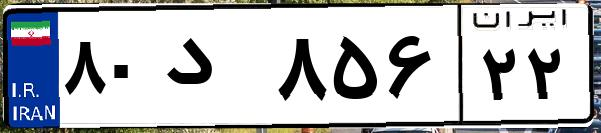0: (110, 28, 158, 98)
2: (475, 38, 525, 113), (525, 38, 570, 115)
5: (330, 28, 385, 110)
6: (385, 28, 445, 110)
8: (270, 28, 330, 110), (57, 26, 110, 100)
د: (158, 20, 270, 120)
